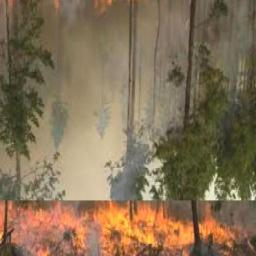Low smoke: (12, 7, 146, 184)
Small fire: (5, 199, 242, 256)
